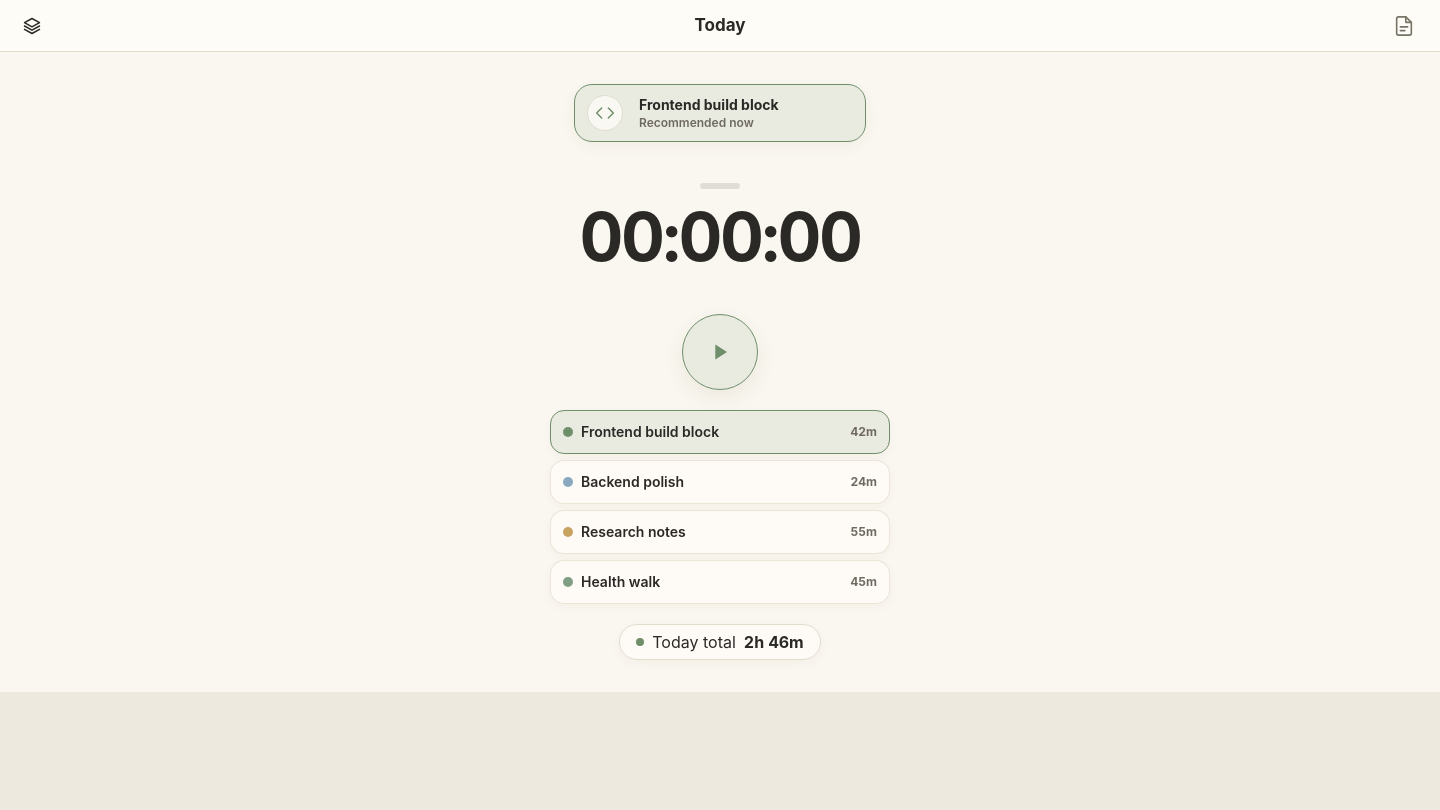
Scenario: TrackScreen › opens the midterm Today sheet with grouped activities and right-aligned totals
This screenshot has width=1440, height=810.
Click the button named "Choose activity": click(32, 26) [12,6,52,46]
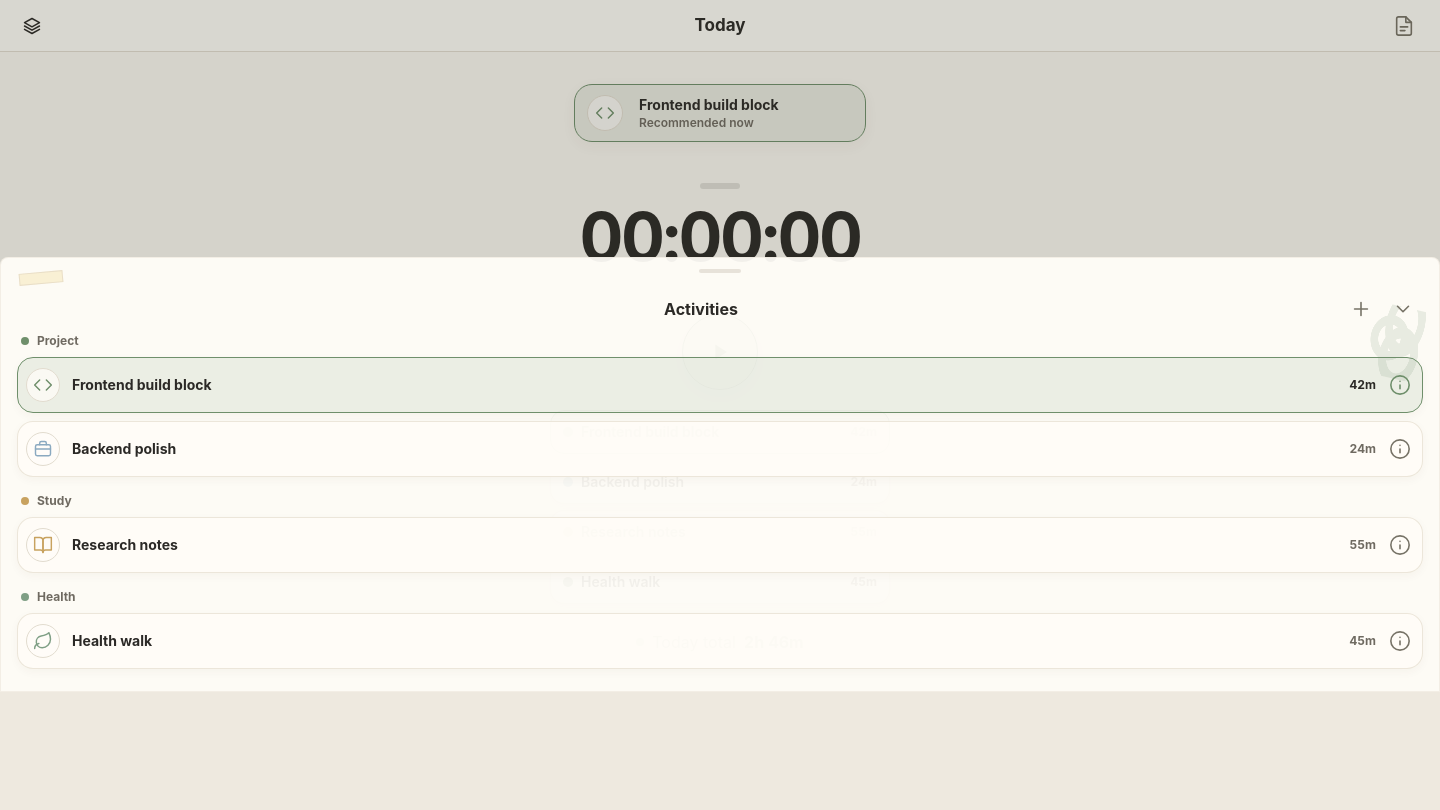
Now the heading "Project" is shown, box [21,333,79,348]
Now the heading "Study" is shown, box [21,493,72,508]
Now the heading "Health" is shown, box [21,589,76,604]
